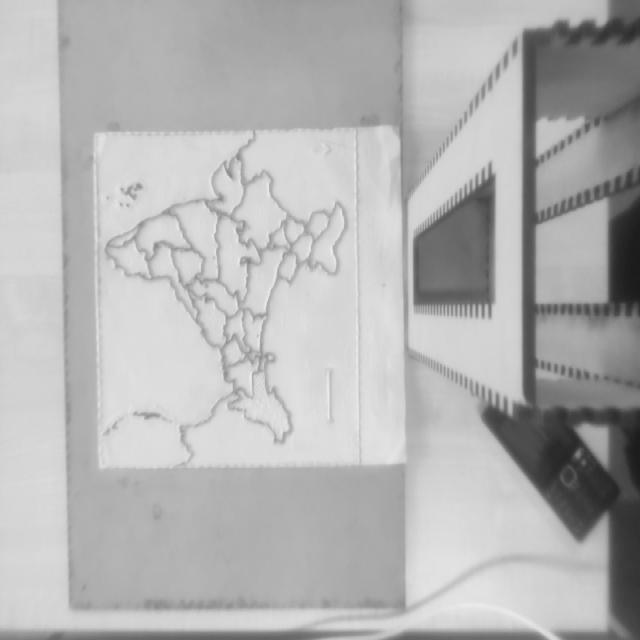map: (94, 128, 360, 469)
